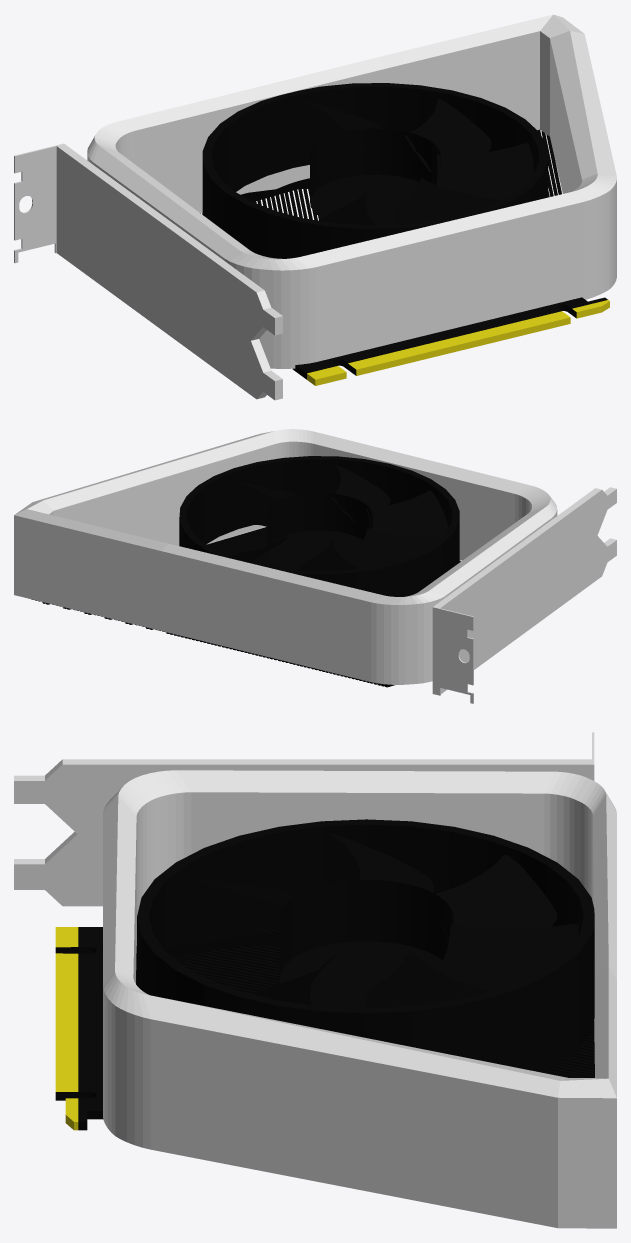
3 views of the same model, one above another, from view 1: azimuth 30°, elevation 25°; view 2: azimuth 150°, elevation 25°; view 3: azimuth 270°, elevation 25° (orthographic). The views are drawn at different scales.
Visible parts, largest first — view 1: grenaj, tutturma, fan1, fan1.002, fan1.001, pci, sogutma; view 2: grenaj, tutturma, fan1, fan1.002, fan1.001, sogutma; view 3: grenaj, fan1, fan1.002, tutturma, fan1.001, pci, sogutma.
Boxes of the visible parts, x1=… form: grenaj: x1=87, y1=14, x2=616, y2=368; tutturma: x1=14, y1=143, x2=282, y2=400; fan1: x1=202, y1=83, x2=548, y2=258; fan1.002: x1=221, y1=98, x2=534, y2=225; fan1.001: x1=310, y1=128, x2=440, y2=224; pci: x1=292, y1=297, x2=609, y2=385; sogutma: x1=200, y1=129, x2=561, y2=220; grenaj: x1=14, y1=429, x2=557, y2=684; tutturma: x1=432, y1=487, x2=616, y2=703; fan1: x1=179, y1=456, x2=459, y2=596; fan1.002: x1=190, y1=465, x2=448, y2=571; fan1.001: x1=266, y1=493, x2=372, y2=570; sogutma: x1=31, y1=527, x2=460, y2=687; grenaj: x1=103, y1=770, x2=616, y2=1228; fan1: x1=137, y1=819, x2=594, y2=1072; fan1.002: x1=165, y1=833, x2=578, y2=1008; tutturma: x1=14, y1=732, x2=594, y2=906; fan1.001: x1=279, y1=879, x2=453, y2=1008; pci: x1=55, y1=927, x2=103, y2=1130; sogutma: x1=136, y1=928, x2=594, y2=1077.
Size of the model in its own units: 314 by 60.64 by 222.
